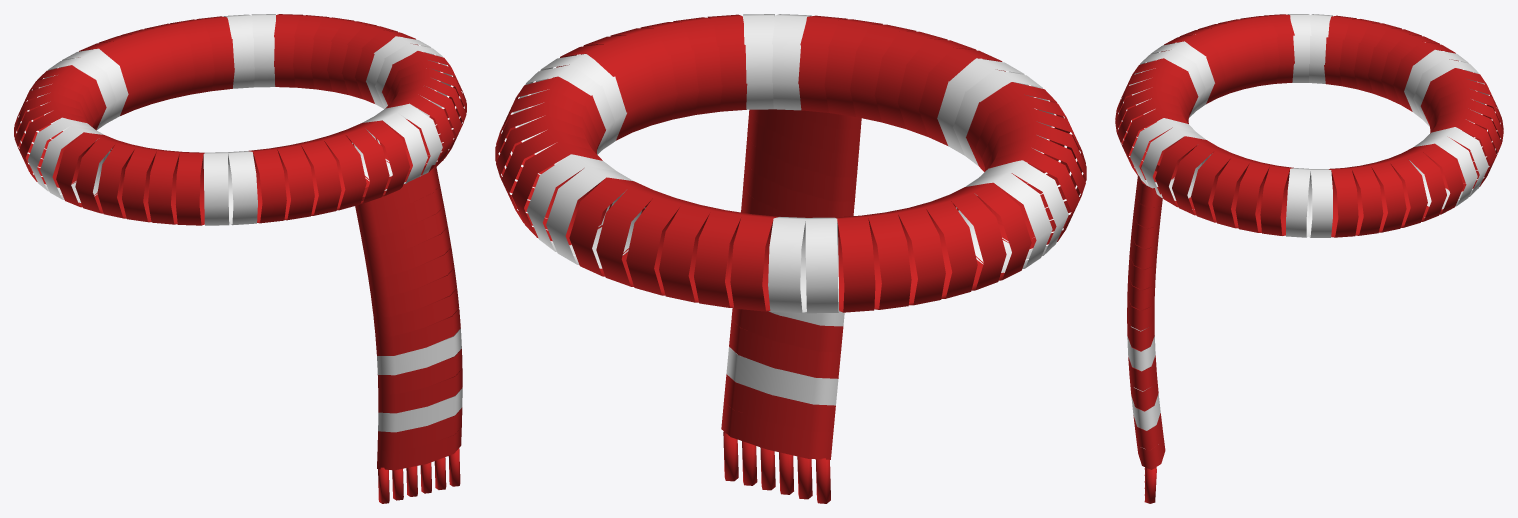
File: neck_scarf.glb
3 views of the same model, side by side, from view 1: azimuth 30°, elevation 25°; view 2: azimuth 150°, elevation 25°; view 3: azimuth 270°, elevation 25° (orthographic). The views are drawn at different scales.
Parts seen in each view (by area): view 1: neck_scarf_q, neck_scarf_front_q; view 2: neck_scarf_q, neck_scarf_front_q; view 3: neck_scarf_q, neck_scarf_front_q.
Part boxes in pixels (x1,y1,x2,y2): neck_scarf_q: [14, 14, 466, 225]; neck_scarf_front_q: [355, 165, 462, 503]; neck_scarf_q: [495, 14, 1086, 313]; neck_scarf_front_q: [721, 109, 861, 503]; neck_scarf_q: [1115, 14, 1503, 237]; neck_scarf_front_q: [1127, 164, 1165, 503].
Bounding box in the file's own units: 2.4 × 2.13 × 2.12.
